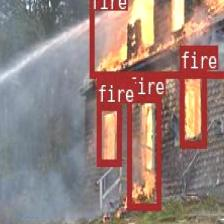fire: (89, 0, 224, 76), (126, 94, 160, 209), (180, 69, 206, 146), (96, 102, 120, 165)
